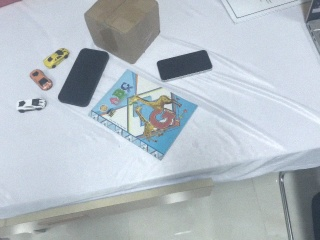book: (86, 66, 202, 164)
box: (84, 1, 161, 65)
phone: (56, 46, 113, 108), (157, 50, 213, 83)
toy_car: (43, 47, 70, 69), (29, 69, 54, 91), (16, 98, 47, 112)
